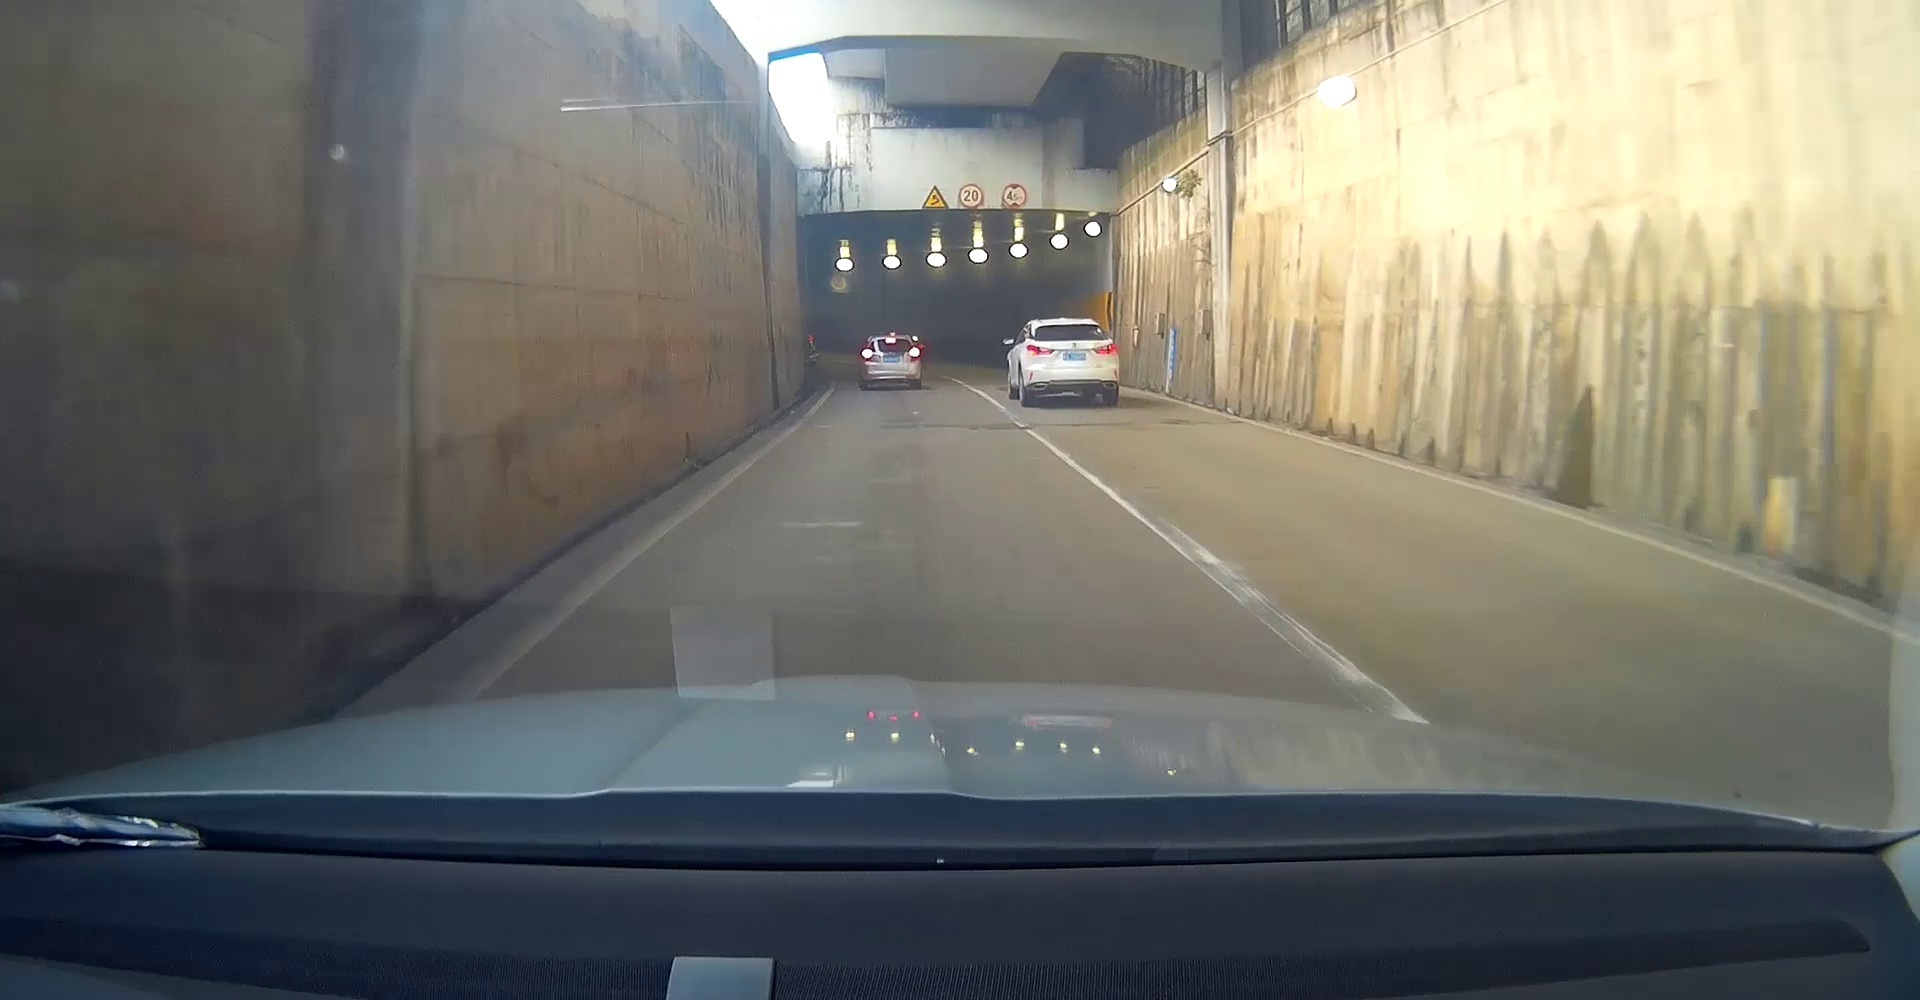L_light: (1026, 344, 1057, 358), (862, 349, 872, 358)
R_light: (1092, 341, 1117, 355), (908, 348, 919, 357)
T_light: (1060, 324, 1076, 327), (888, 339, 897, 341)
day-brake: (860, 334, 922, 390)
day-no: (1022, 319, 1120, 407)
